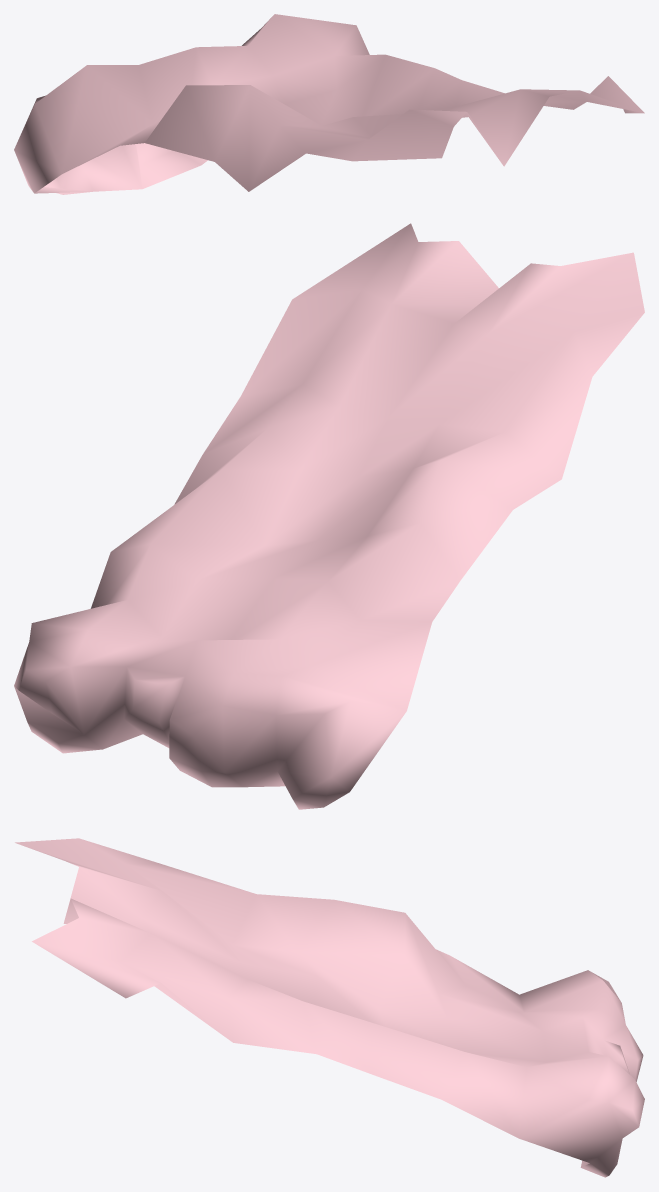
The picture shows the model from 3 angles, top to bottom: view 1: azimuth 30°, elevation 25°; view 2: azimuth 150°, elevation 25°; view 3: azimuth 270°, elevation 25°; orthographic projection. The views are drawn at different scales.
Parts seen in each view (by area): view 1: Object05; view 2: Object05; view 3: Object05.
Boxes of the visible parts, x1,y1,x2,y2 form: Object05: [14, 14, 644, 194]; Object05: [14, 223, 644, 809]; Object05: [15, 838, 644, 1177].
Size of the model in its own units: 46389 by 38495 by 88520.
